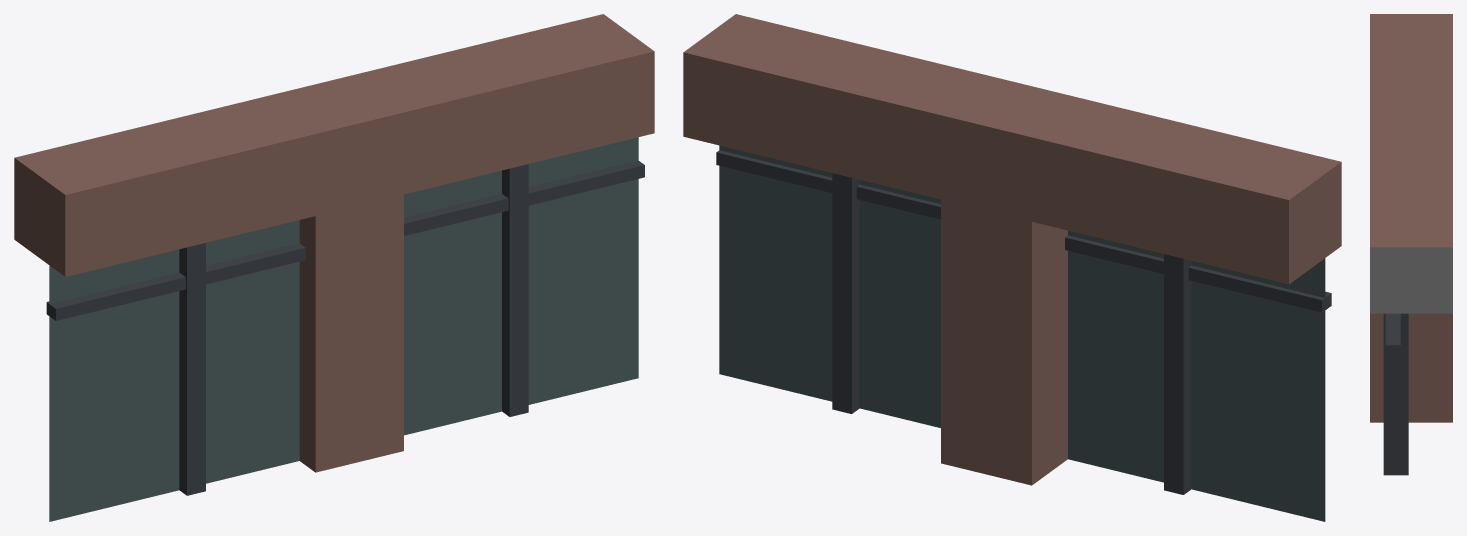
The model's file is mid-w1.fbx.
The picture shows the model from 3 angles, left to right: view 1: azimuth 30°, elevation 25°; view 2: azimuth 150°, elevation 25°; view 3: azimuth 270°, elevation 25°; orthographic projection. The views are drawn at different scales.
Visible parts, largest first — view 1: a2009.wall.001; view 2: a2009.wall.001; view 3: a2009.wall.001.
Part boxes in pixels (x1,y1,x2,y2): a2009.wall.001: (14, 14, 654, 521); a2009.wall.001: (683, 14, 1341, 521); a2009.wall.001: (1370, 14, 1452, 475).
Size of the model in its own units: 8 by 4.39 by 1.2.
